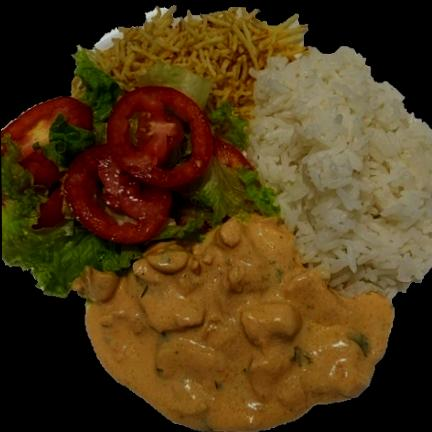chicken: (76, 216, 393, 431)
potato: (90, 6, 307, 116)
rice: (248, 47, 432, 298)
salad: (1, 132, 146, 296), (159, 173, 280, 240), (75, 49, 123, 142), (43, 120, 88, 174), (211, 105, 245, 143)
tomato: (1, 86, 250, 243)
